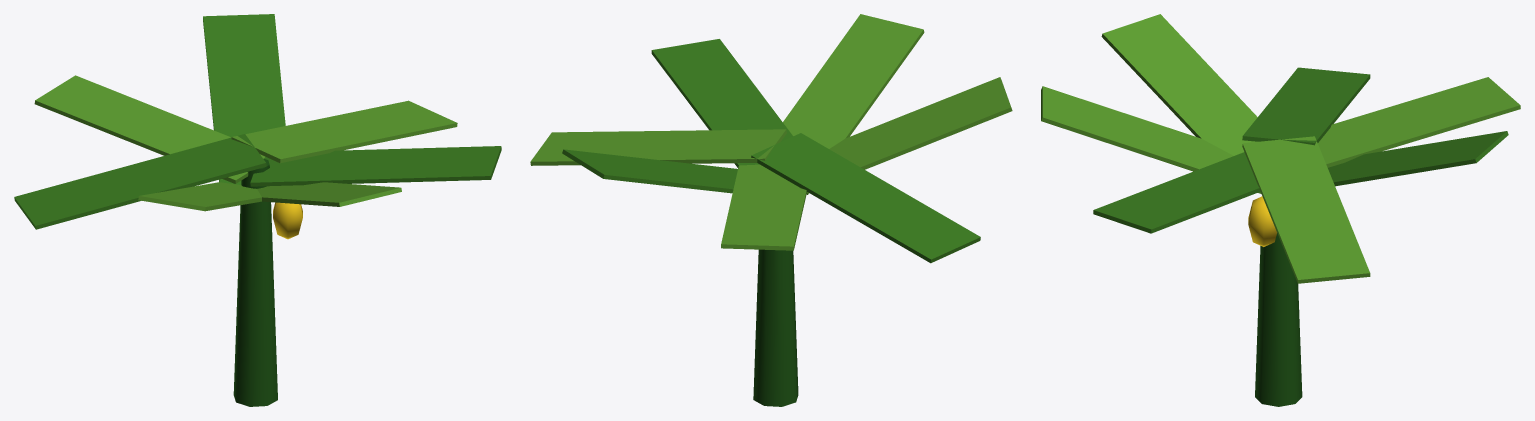
The model's file is jg_banana_plant.glb.
The picture shows the model from 3 angles, left to right: view 1: azimuth 30°, elevation 25°; view 2: azimuth 150°, elevation 25°; view 3: azimuth 270°, elevation 25°; orthographic projection. The views are drawn at different scales.
Visible parts, largest first — view 1: jg_banana_plant; view 2: jg_banana_plant; view 3: jg_banana_plant.
Boxes of the visible parts, x1,y1,x2,y2 form: jg_banana_plant: (14,14,501,406); jg_banana_plant: (530,14,1012,406); jg_banana_plant: (1041,14,1520,406).
Size of the model in its own units: 3.39 by 2.2 by 3.24.
